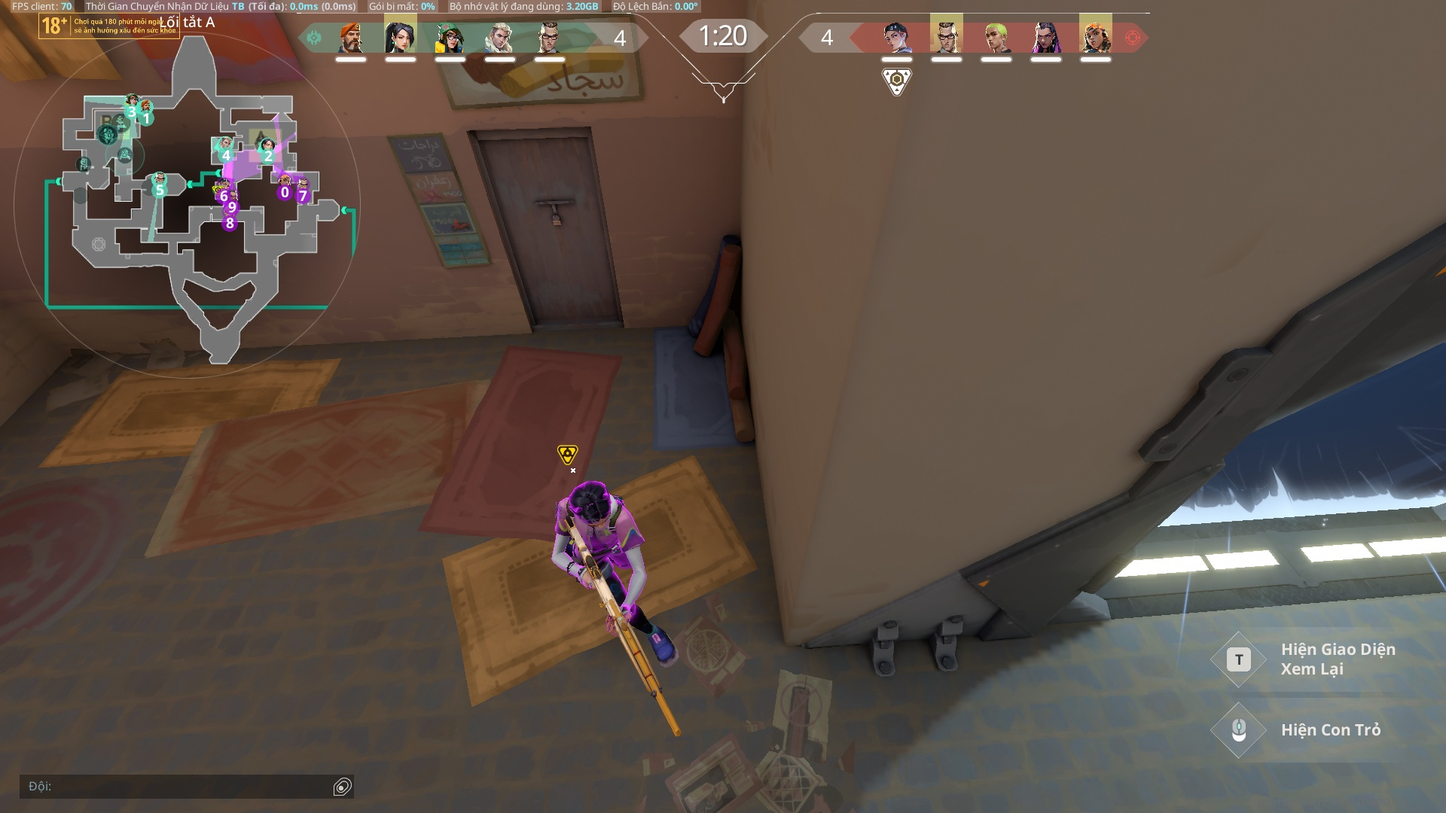body: (557, 508, 642, 556)
head: (568, 482, 612, 524)
